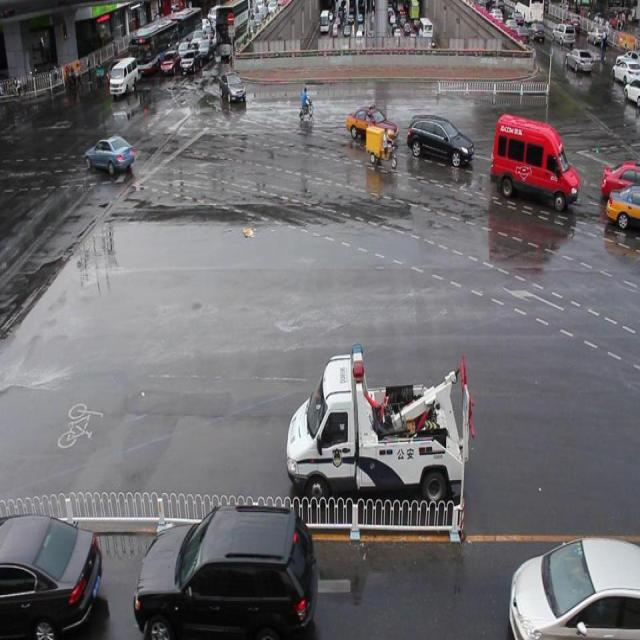bus: (287, 344, 475, 513)
car: (135, 502, 315, 640), (508, 535, 640, 640), (1, 508, 100, 640), (408, 116, 474, 170), (347, 105, 398, 145), (602, 159, 640, 202), (606, 186, 640, 231)
truck: (490, 113, 580, 213)
